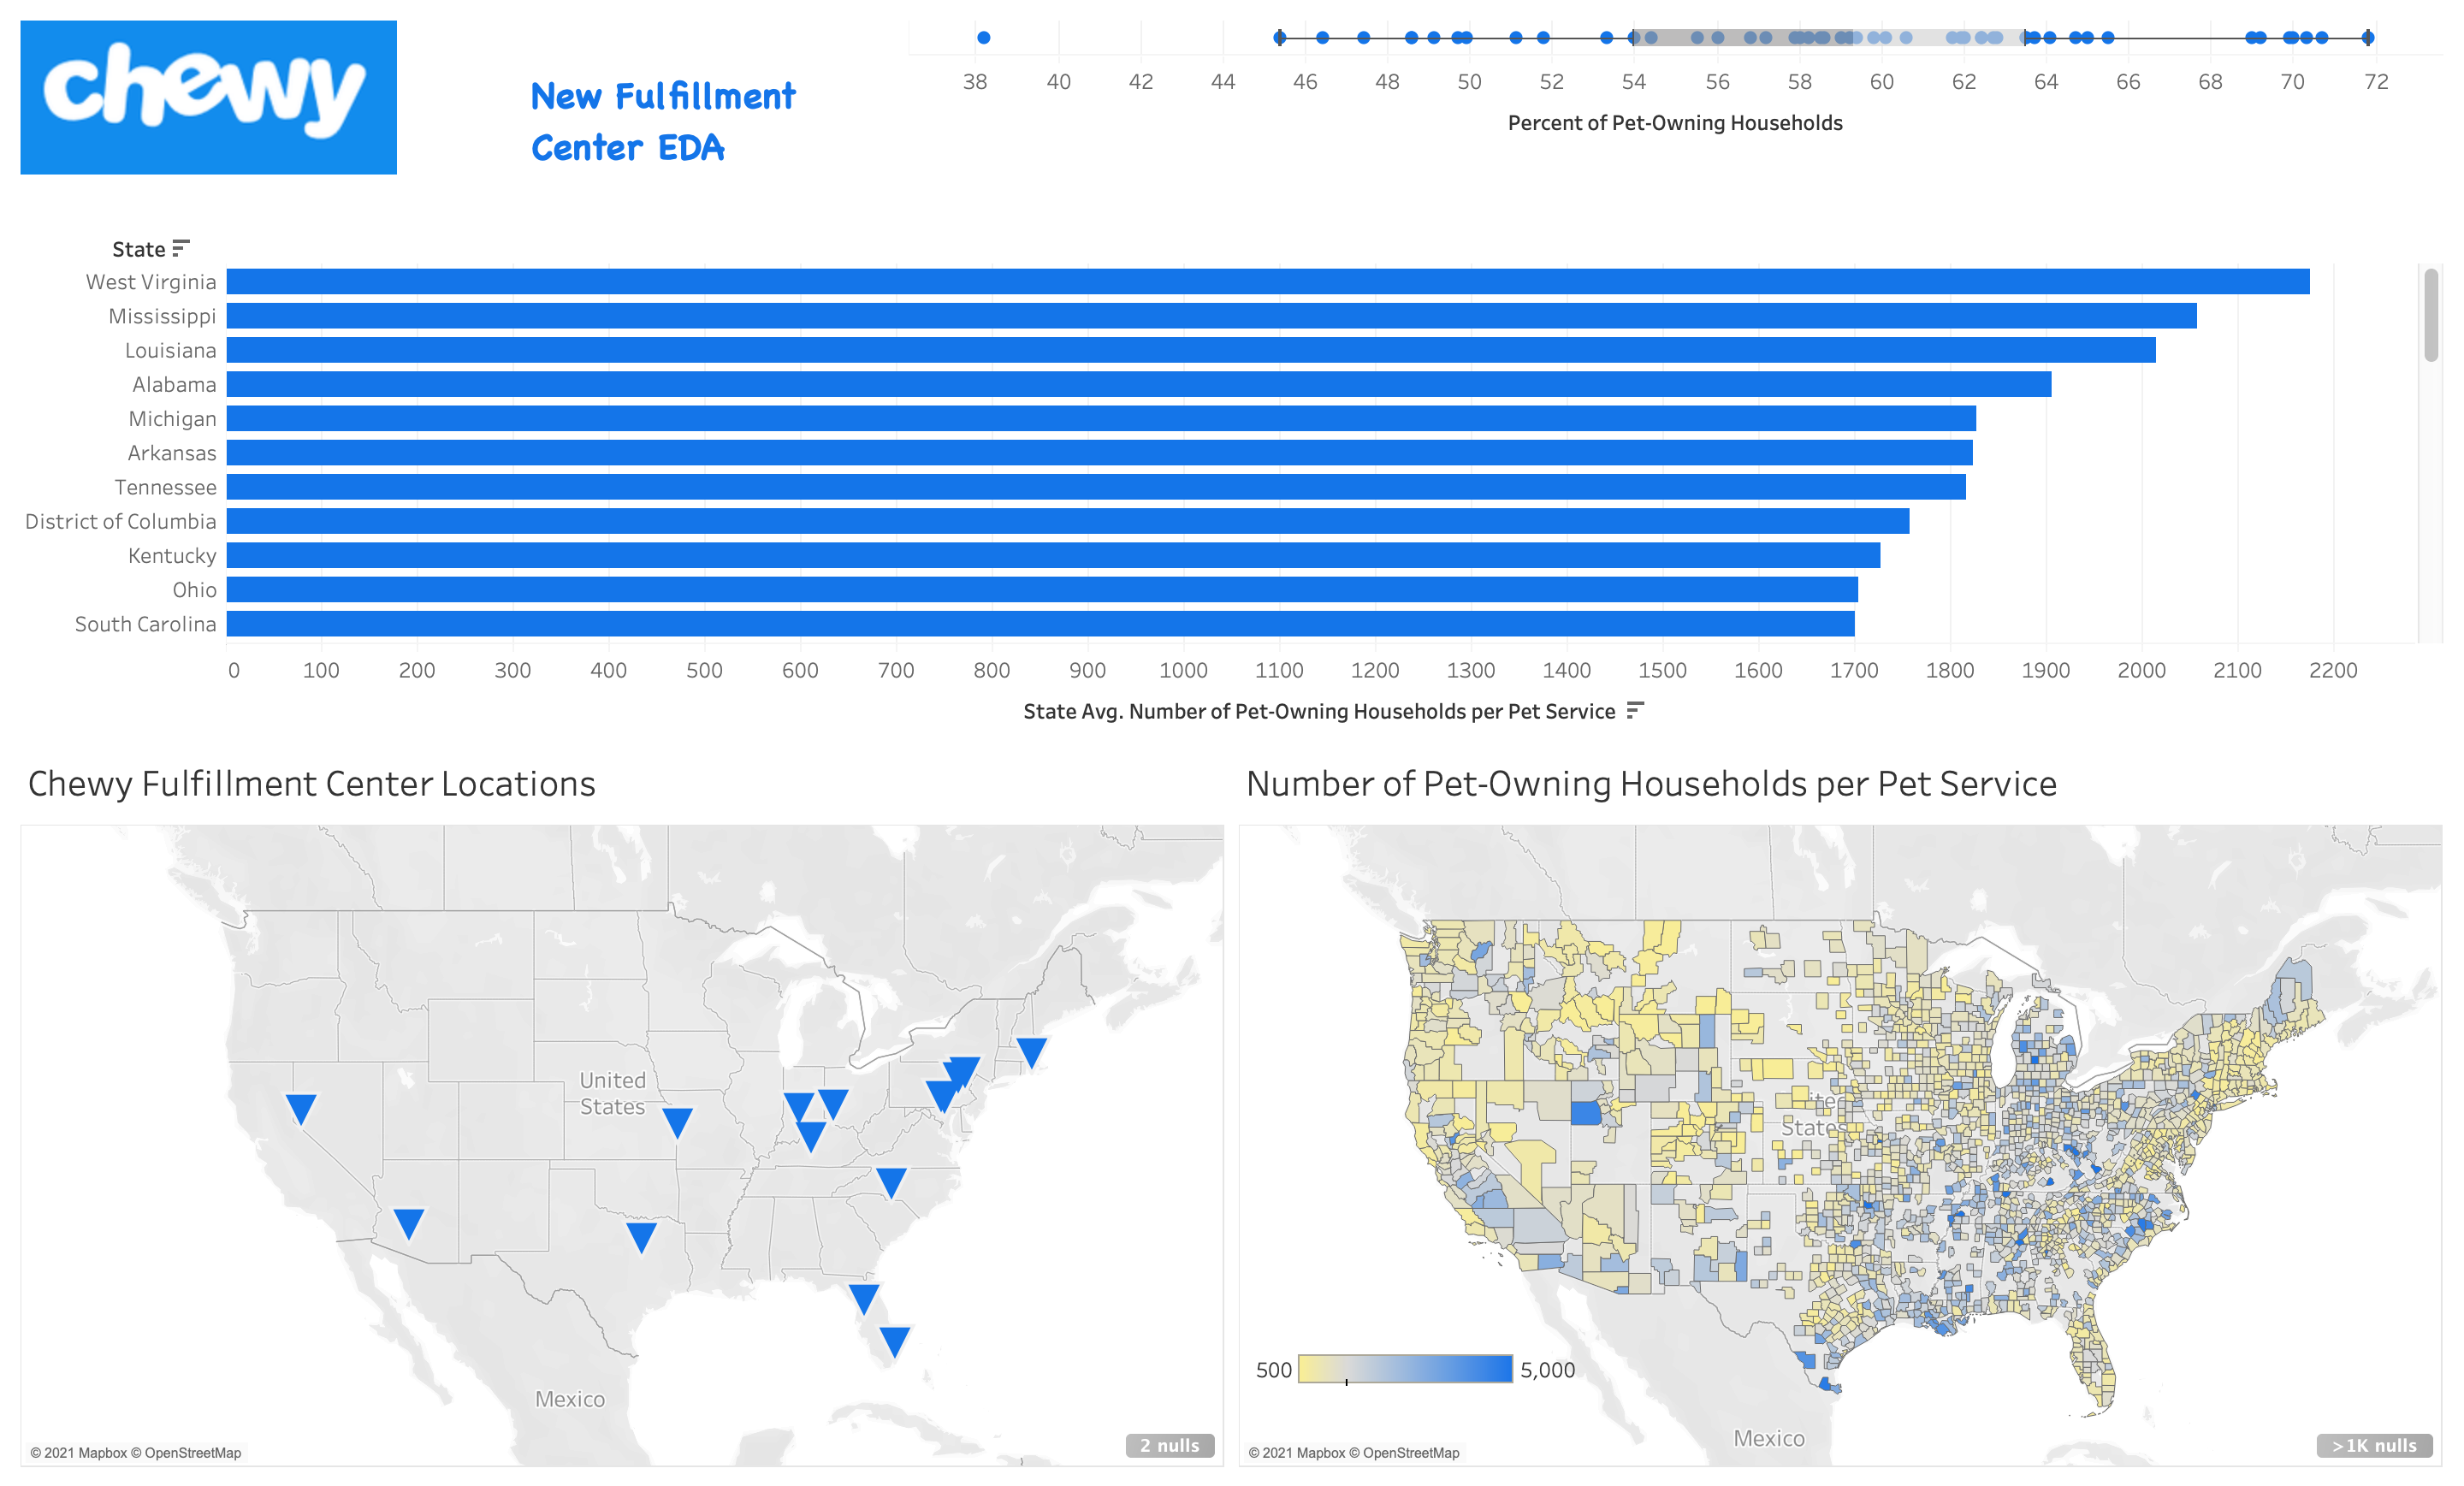

This screenshot's page, from the dashboard's own definition file:
{"tool":"tableau","page":{"name":"Public Dashboard","canvas":[1000,1000],"units":"permille","ordinal":0},"visuals":[{"type":"image","param":"Image/chewy_logo_v2.png","box":[6.7,11.5,243.3,194.2]},{"type":"text","box":[250,11.5,212.4,194.2]},{"type":"worksheet","title":"% pet-owning box-and-whisker","mark":"Circle","cols":["Percent of Households Who Owned Pets on Dec. 31, 2016"],"box":[462.4,11.5,530.9,194.2]},{"type":"worksheet","title":"bar pet-owning house per retailer state","mark":"Automatic","rows":["State_long"],"cols":["Calculation_3084754645671931905"],"box":[6.7,205.8,986.6,341]},{"type":"worksheet","title":"map Chewy locations","mark":"Shape","rows":["lat"],"cols":["lon"],"box":[6.7,546.8,493.3,441.7]},{"type":"worksheet","title":"map pet-owning house per retailer county","mark":"Automatic","box":[500,546.8,493.3,441.7]}]}

Visuals, with their boxes on the dashboard's canvas, which has no fixed pixel size, in thousandths of its width and height (x1, y1, x2, y2). These are canvas units, not pixel positions in the 2464x1486 screenshot, which may show the page scaled, cropped or inside an application window:
image: <bbox>7, 12, 250, 206</bbox>
text: <bbox>250, 12, 462, 206</bbox>
"% pet-owning box-and-whisker" worksheet (Circle marks): <bbox>462, 12, 993, 206</bbox>
"bar pet-owning house per retailer state" worksheet: <bbox>7, 206, 993, 547</bbox>
"map Chewy locations" worksheet (Shape marks): <bbox>7, 547, 500, 988</bbox>
"map pet-owning house per retailer county" worksheet: <bbox>500, 547, 993, 988</bbox>
